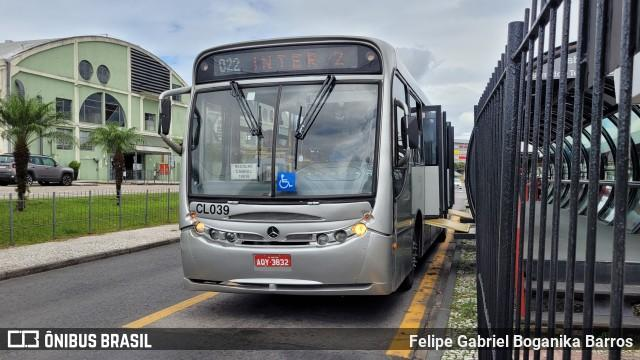INTER 2: (249, 46, 352, 76)
